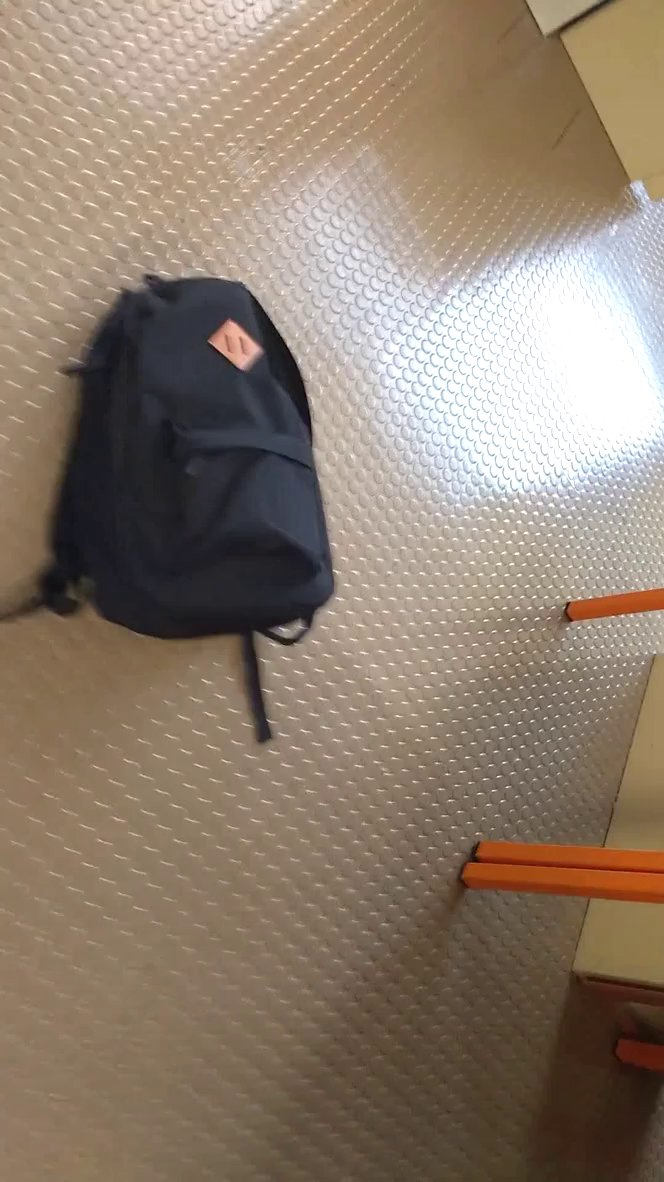bag: (2, 259, 353, 763)
